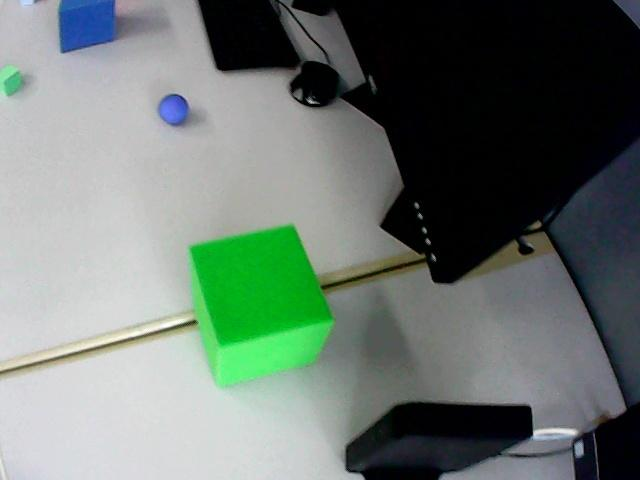blue_block: (59, 0, 115, 52)
